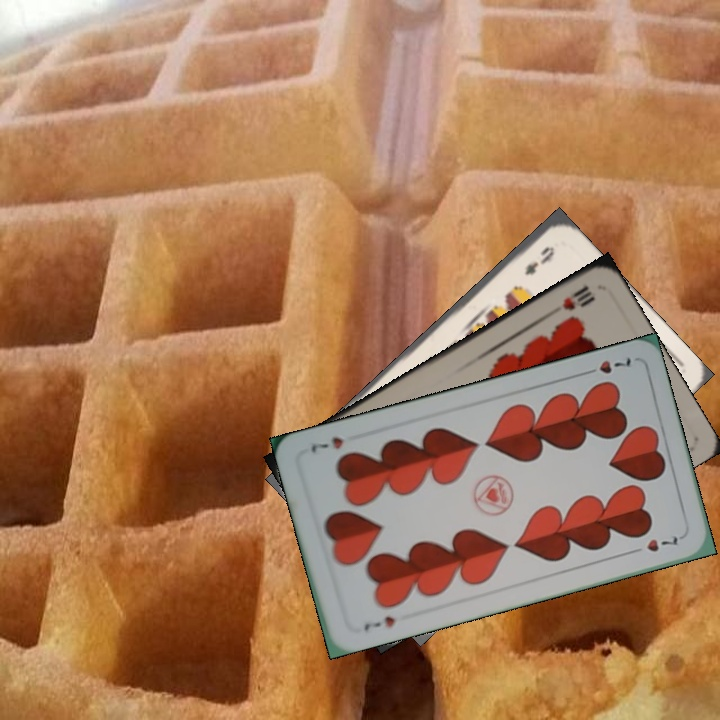E9: (520, 242, 558, 278)
H10: (558, 281, 598, 314)
H7: (578, 353, 634, 379), (360, 612, 398, 633)
